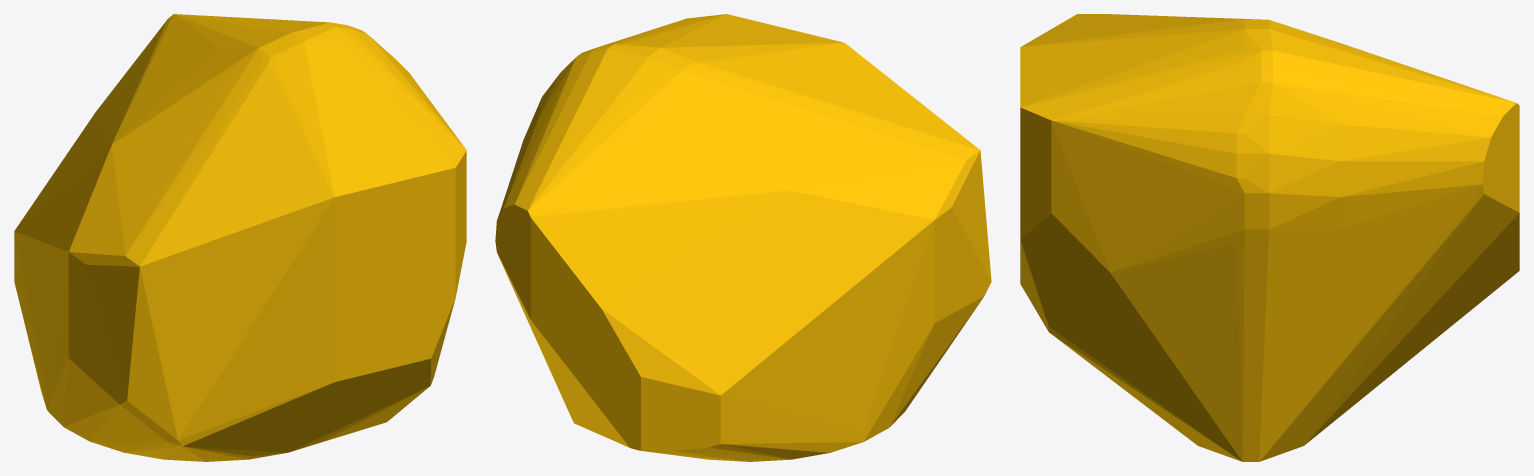
3 views of the same model, side by side, from view 1: azimuth 30°, elevation 25°; view 2: azimuth 150°, elevation 25°; view 3: azimuth 270°, elevation 25° (orthographic). The views are drawn at different scales.
Visible parts, largest first — view 1: Link 1; view 2: Link 1; view 3: Link 1.
Part boxes in pixels (<box>): Link 1: <box>14,14,466,461</box>; Link 1: <box>495,14,991,461</box>; Link 1: <box>1020,14,1519,461</box>.
Bounding box in the file's own units: 0.5642 × 0.6319 × 0.5403.
